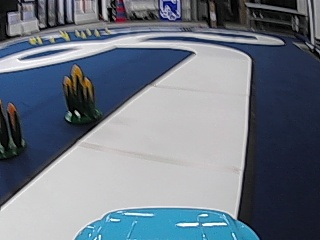corn: (61, 61, 101, 126), (0, 101, 26, 159)
